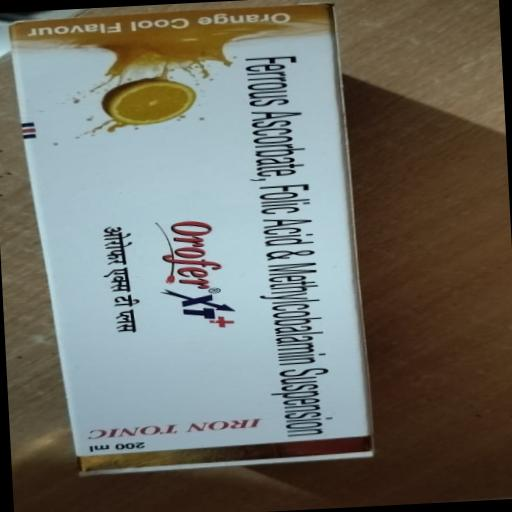orofer xt plus: (0, 0, 374, 497)
